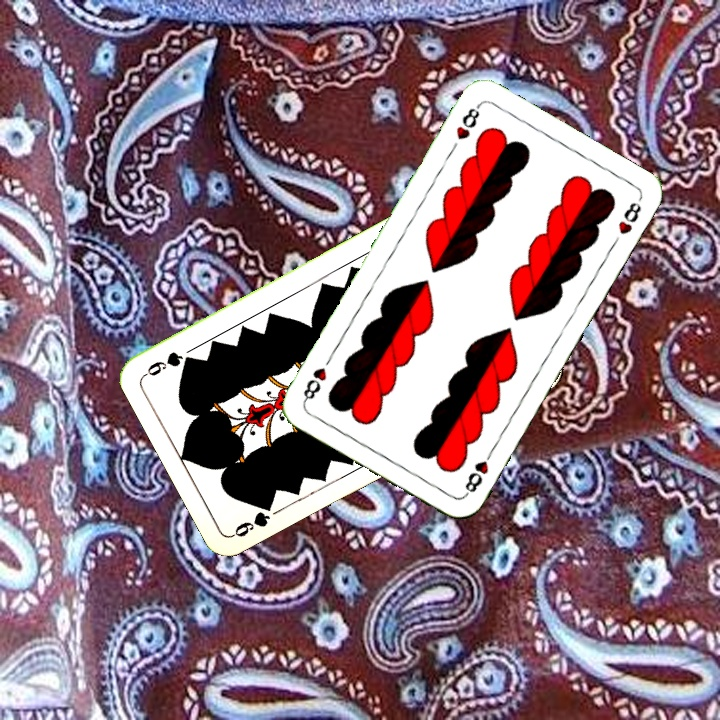G9: (229, 500, 275, 540)
H8: (460, 444, 497, 499), (452, 100, 483, 143)
